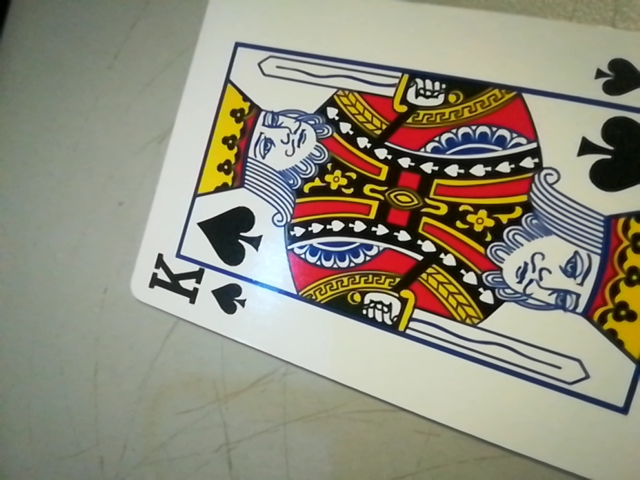ht k: (123, 249, 257, 328)
